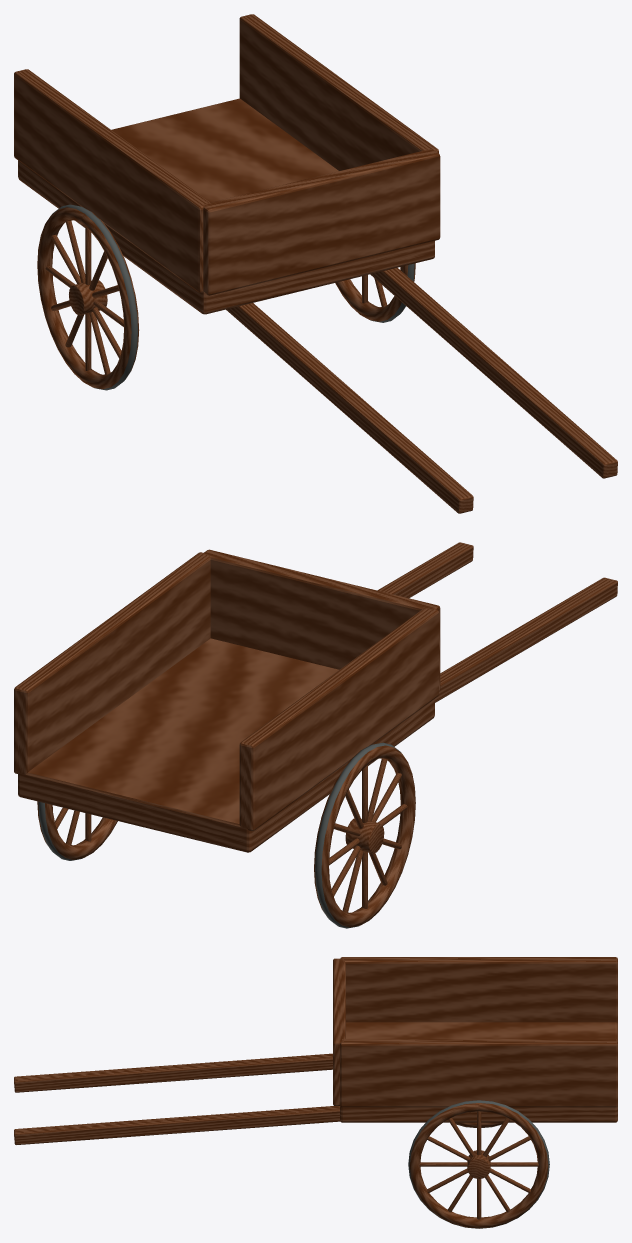
File: Prop_Horse_Cart_01_LOD0.fbx
3 views of the same model, one above another, from view 1: azimuth 30°, elevation 25°; view 2: azimuth 150°, elevation 25°; view 3: azimuth 270°, elevation 25° (orthographic). The views are drawn at different scales.
Visible parts, largest first — view 1: Prop_Horse_Cart_01_OPT_Merged_RB_Wood_Walnut_OPT_DATA, Prop_Horse_Cart_01_OPT_Merged_RB_Steel_Blackened_OPT_DATA; view 2: Prop_Horse_Cart_01_OPT_Merged_RB_Wood_Walnut_OPT_DATA, Prop_Horse_Cart_01_OPT_Merged_RB_Steel_Blackened_OPT_DATA; view 3: Prop_Horse_Cart_01_OPT_Merged_RB_Wood_Walnut_OPT_DATA, Prop_Horse_Cart_01_OPT_Merged_RB_Steel_Blackened_OPT_DATA.
Part boxes in pixels (bbox=[...]): Prop_Horse_Cart_01_OPT_Merged_RB_Wood_Walnut_OPT_DATA: bbox=[14, 14, 617, 513]; Prop_Horse_Cart_01_OPT_Merged_RB_Steel_Blackened_OPT_DATA: bbox=[52, 204, 414, 390]; Prop_Horse_Cart_01_OPT_Merged_RB_Wood_Walnut_OPT_DATA: bbox=[14, 542, 617, 927]; Prop_Horse_Cart_01_OPT_Merged_RB_Steel_Blackened_OPT_DATA: bbox=[38, 742, 401, 928]; Prop_Horse_Cart_01_OPT_Merged_RB_Wood_Walnut_OPT_DATA: bbox=[14, 957, 617, 1228]; Prop_Horse_Cart_01_OPT_Merged_RB_Steel_Blackened_OPT_DATA: bbox=[408, 1100, 549, 1228].
Bounding box in the file's own units: 200 × 152 × 467.
2 materials, 1 textured.
